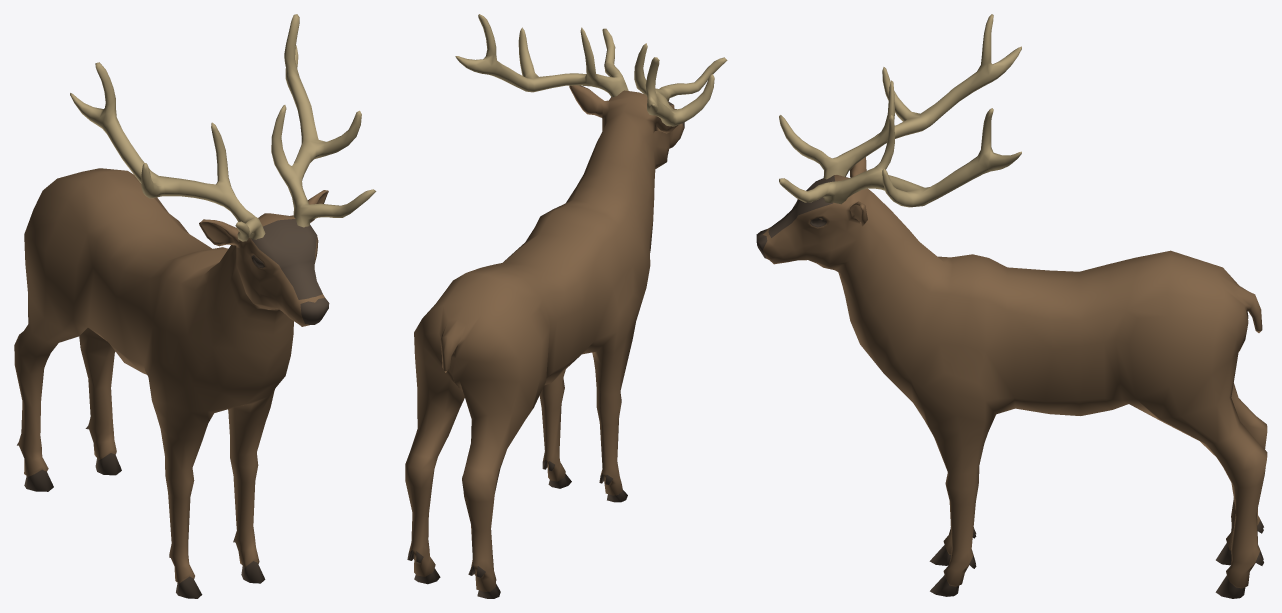
Rendered from stag-slender-stag.glb.
The picture shows the model from 3 angles, left to right: view 1: azimuth 30°, elevation 25°; view 2: azimuth 150°, elevation 25°; view 3: azimuth 270°, elevation 25°; orthographic projection. The views are drawn at different scales.
Visible parts, largest first — view 1: stag-slender-stag runtime mesh; view 2: stag-slender-stag runtime mesh; view 3: stag-slender-stag runtime mesh.
Part boxes in pixels (left/top/right/bottom): stag-slender-stag runtime mesh: left=14, top=14, right=376, bottom=598; stag-slender-stag runtime mesh: left=405, top=14, right=727, bottom=598; stag-slender-stag runtime mesh: left=756, top=14, right=1267, bottom=598.
Bounding box in the file's own units: 0.8643 × 1.95 × 1.75.
